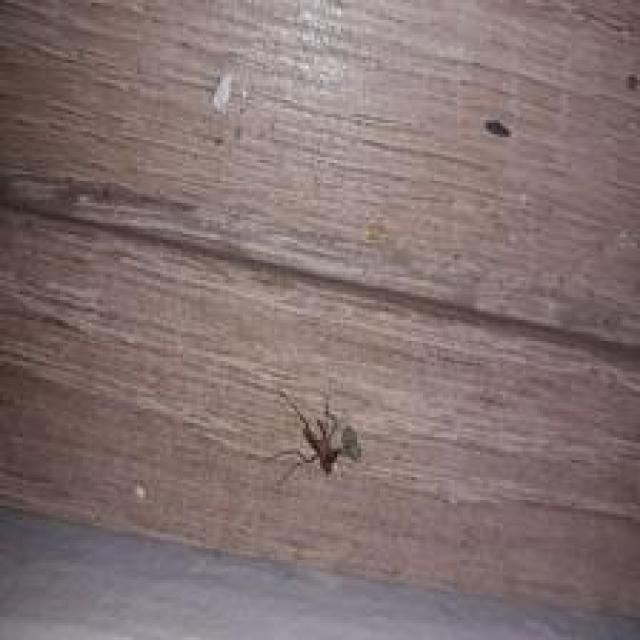Culex: (264, 386, 364, 488)
